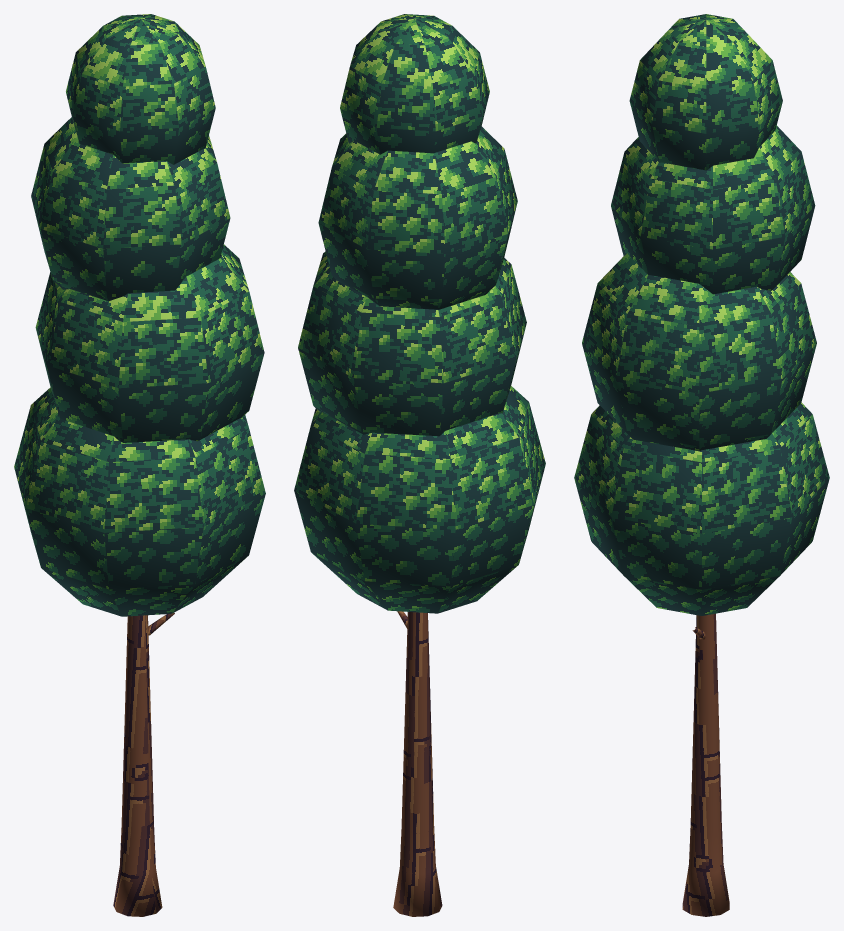
Rendered from upright.glb.
3 views of the same model, side by side, from view 1: azimuth 30°, elevation 25°; view 2: azimuth 150°, elevation 25°; view 3: azimuth 270°, elevation 25° (orthographic).
Visible parts, largest first — view 1: OakRoot; view 2: OakRoot; view 3: OakRoot.
Boxes of the visible parts, <box> form: OakRoot: <box>14,14,265,916</box>; OakRoot: <box>294,14,545,916</box>; OakRoot: <box>574,14,829,916</box>.
Bounding box in the file's own units: 3.1 × 11.5 × 3.
2 materials, 2 textured.
